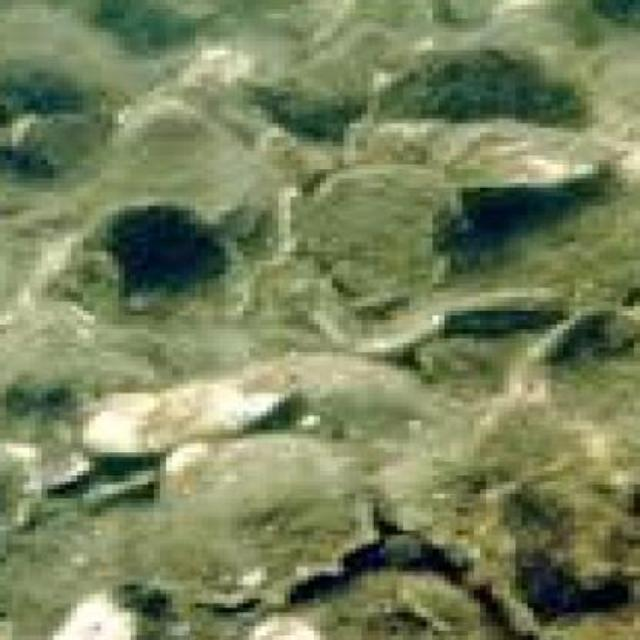Oyster-Closed: (145, 435, 372, 608), (100, 100, 275, 231), (82, 361, 306, 456), (303, 167, 452, 300), (363, 44, 582, 125), (440, 121, 624, 198), (353, 121, 481, 186)
Oyster-Open: (444, 288, 567, 330)
